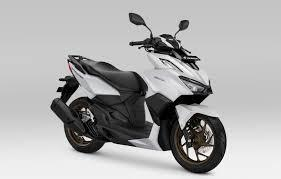motorcycle: (42, 8, 231, 179)
